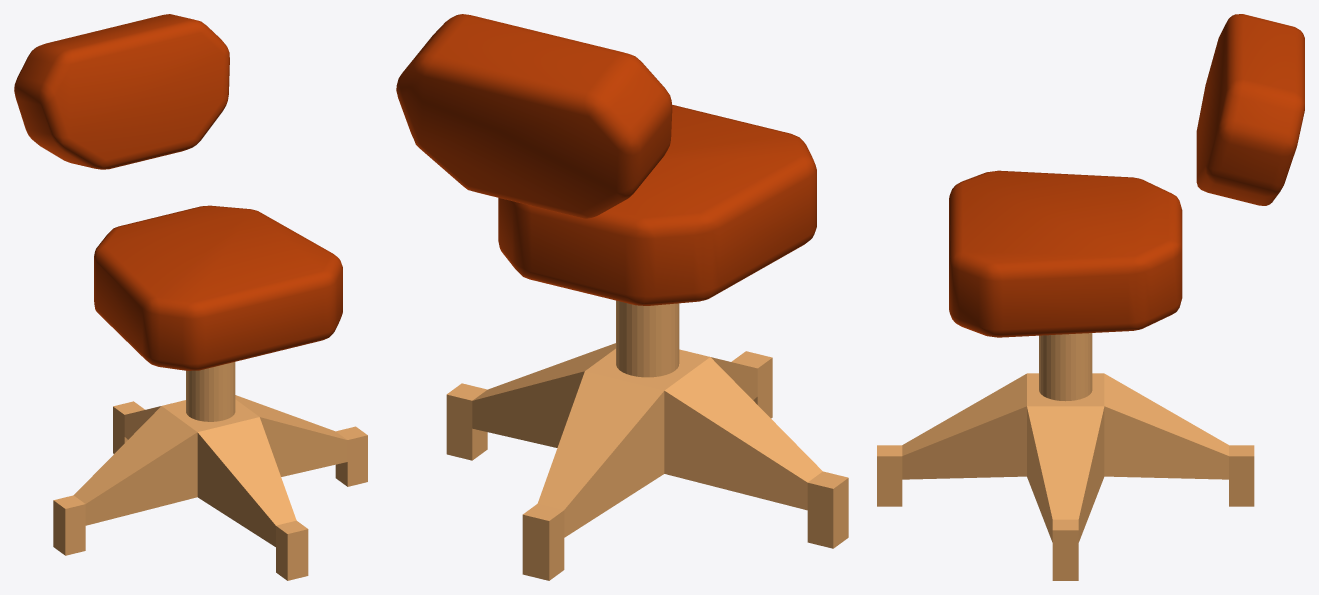
File: barber chair.fbx
3 views of the same model, side by side, from view 1: azimuth 30°, elevation 25°; view 2: azimuth 150°, elevation 25°; view 3: azimuth 270°, elevation 25° (orthographic). The views are drawn at different scales.
Parts seen in each view (by area): view 1: Cube.001, Cube.002, Cylinder.010; view 2: Cube.001, Cube.002, Cylinder.010; view 3: Cube.001, Cube.002, Cylinder.010.
Boxes of the visible parts, box(x1,y1,x2,y2) form: Cube.001: box(14, 14, 342, 370); Cube.002: box(53, 395, 367, 580); Cylinder.010: box(186, 362, 235, 421); Cube.001: box(396, 14, 816, 305); Cube.002: box(446, 343, 848, 580); Cylinder.010: box(616, 300, 679, 377); Cube.001: box(949, 14, 1304, 337); Cube.002: box(877, 373, 1254, 580); Cylinder.010: box(1039, 333, 1092, 401).
Bounding box in the file's own units: 229 × 304 × 260.
